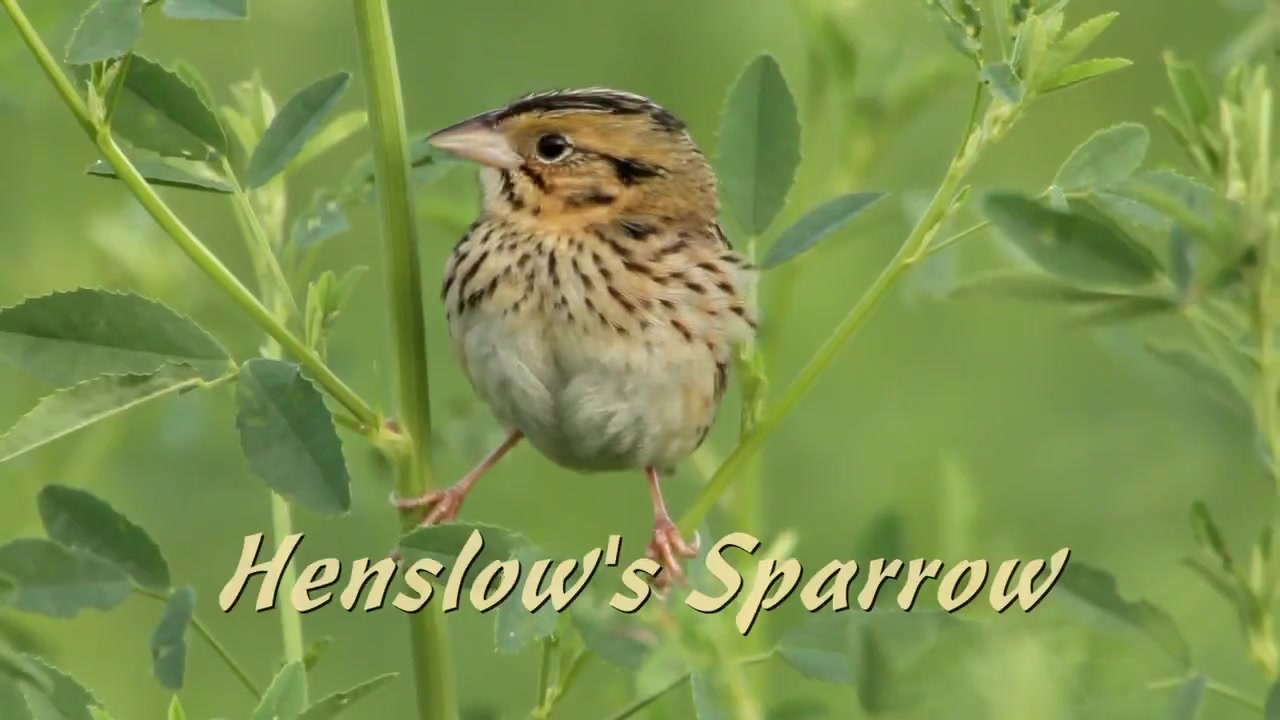bird: (386, 88, 760, 596)
